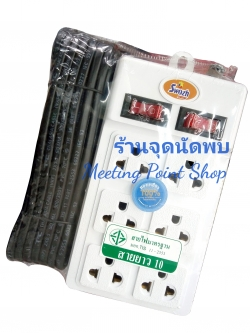Three_eye_plug: (57, 46, 250, 320)
